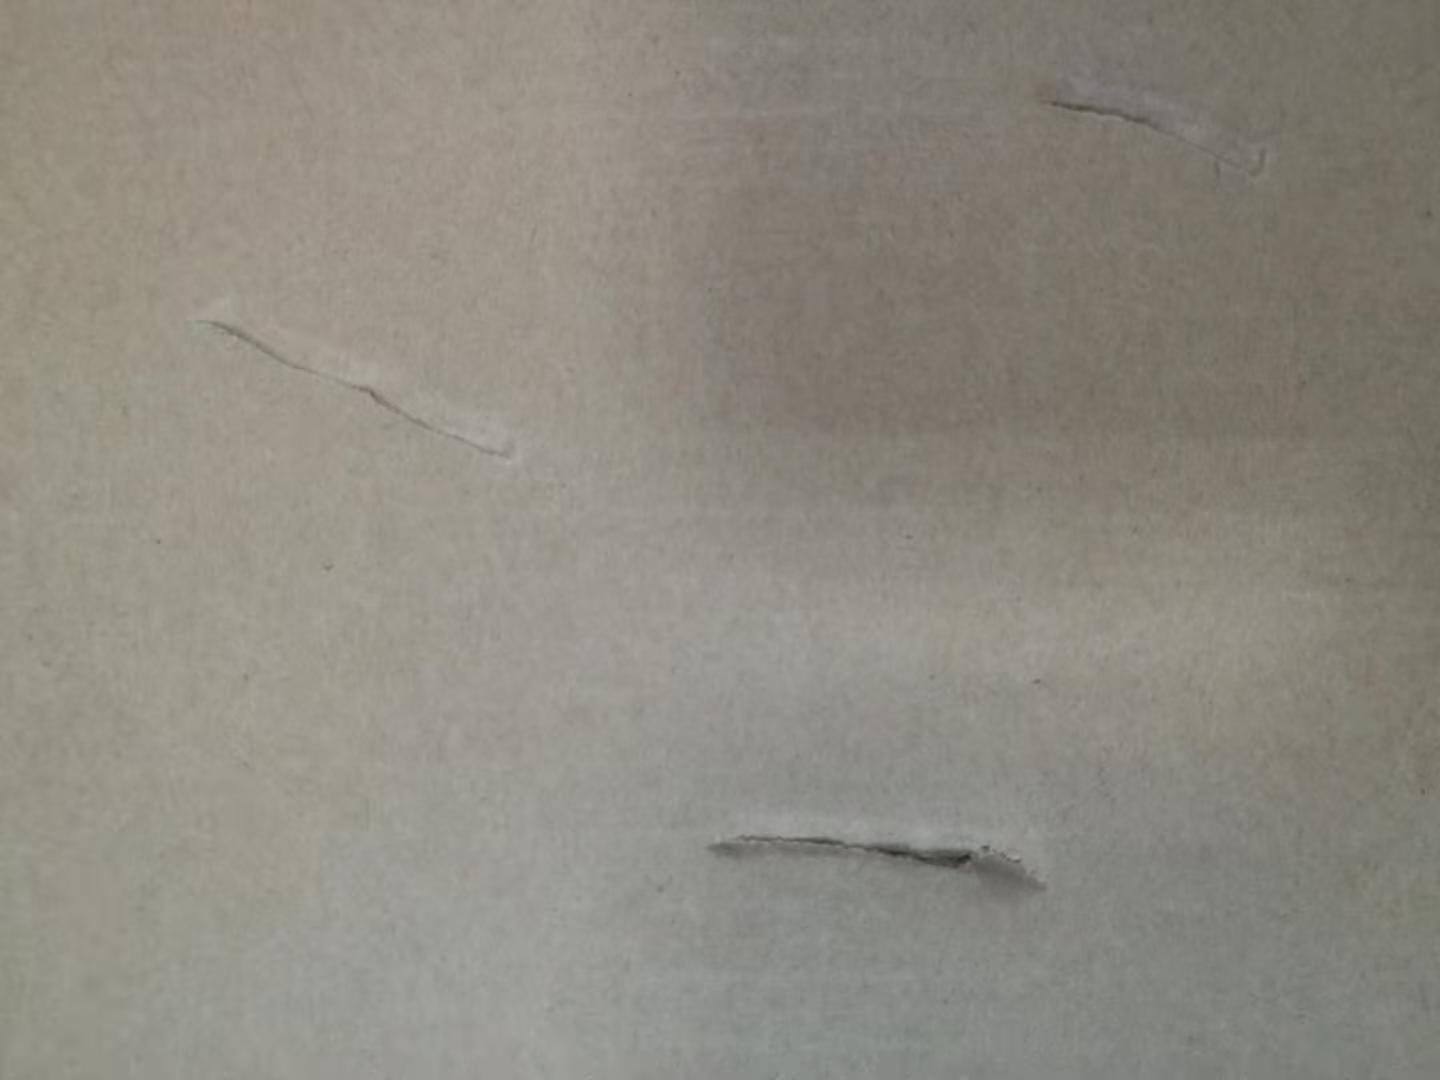defect: (163, 264, 564, 503), (683, 775, 1071, 942), (1013, 52, 1290, 200)
